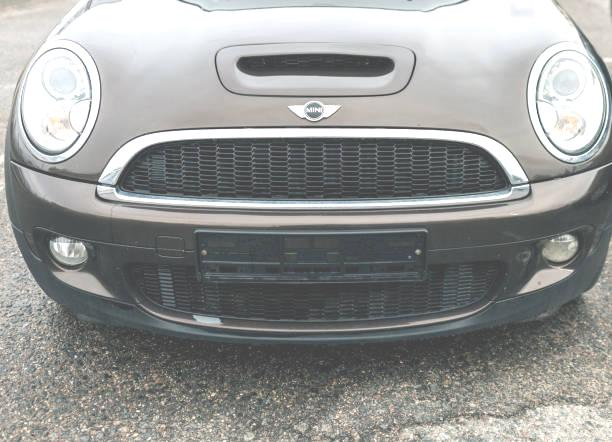mini: (280, 94, 349, 134)
